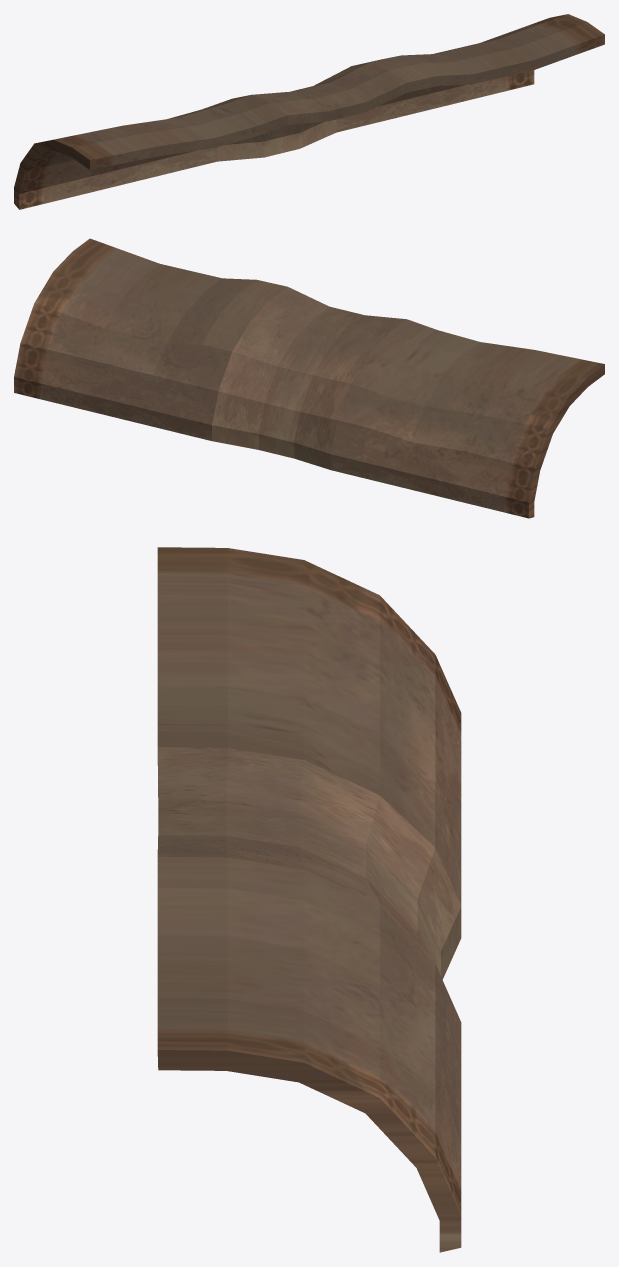
Rendered from Top_wall_01.glb.
3 renders of one model, top to bottom at view 1: azimuth 30°, elevation 25°; view 2: azimuth 150°, elevation 25°; view 3: azimuth 270°, elevation 25°, orthographic. The views are drawn at different scales.
Visible parts, largest first — view 1: Top_wall_01; view 2: Top_wall_01; view 3: Top_wall_01.
Boxes of the visible parts, x1,y1,x2,y2 form: Top_wall_01: (14, 14, 604, 209); Top_wall_01: (14, 238, 604, 518); Top_wall_01: (157, 547, 461, 1252).
Size of the model in its own units: 129 by 24.82 by 32.92.
Materials: 1 (1 with a texture image).
